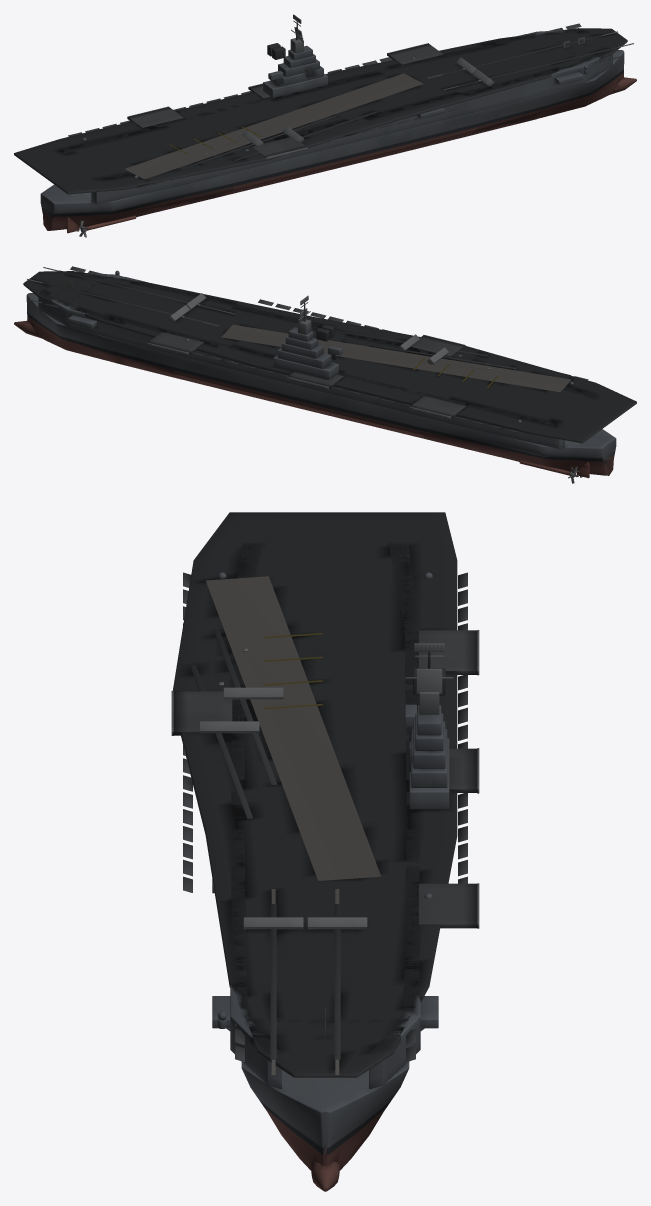
Rendered from cvn68.glb.
The picture shows the model from 3 angles, top to bottom: view 1: azimuth 30°, elevation 25°; view 2: azimuth 150°, elevation 25°; view 3: azimuth 270°, elevation 25°; orthographic projection. The views are drawn at different scales.
Visible parts, largest first — view 1: deck, hull, markings, elevator, island, cats, jet_deck, sponsons; view 2: deck, hull, markings, elevator, island, cats, jet_deck, sponsons; view 3: deck, hull, markings, elevator, island, cats, jet_deck, sponsons, radar.
Boxes of the visible parts, bbox=[...] form: deck: bbox=[14, 23, 627, 194]; hull: bbox=[40, 29, 636, 233]; markings: bbox=[124, 31, 633, 179]; elevator: bbox=[127, 43, 443, 159]; island: bbox=[263, 43, 327, 98]; cats: bbox=[193, 35, 618, 164]; jet_deck: bbox=[242, 57, 494, 146]; sponsons: bbox=[144, 34, 583, 186]; deck: bbox=[23, 266, 636, 443]; hull: bbox=[14, 272, 616, 478]; markings: bbox=[27, 267, 571, 392]; elevator: bbox=[147, 332, 466, 419]; island: bbox=[273, 324, 342, 379]; cats: bbox=[42, 270, 516, 369]; jet_deck: bbox=[168, 293, 448, 364]; sponsons: bbox=[68, 277, 515, 431]; deck: bbox=[173, 512, 467, 1077]; hull: bbox=[230, 543, 420, 1191]; markings: bbox=[206, 576, 381, 1075]; elevator: bbox=[171, 630, 479, 928]; island: bbox=[405, 668, 449, 809]; cats: bbox=[189, 631, 340, 1059]; jet_deck: bbox=[199, 687, 367, 929]; sponsons: bbox=[212, 879, 438, 1030]; radar: bbox=[409, 643, 444, 771].
Size of the model in its own units: 342 by 71.82 by 76.92.
